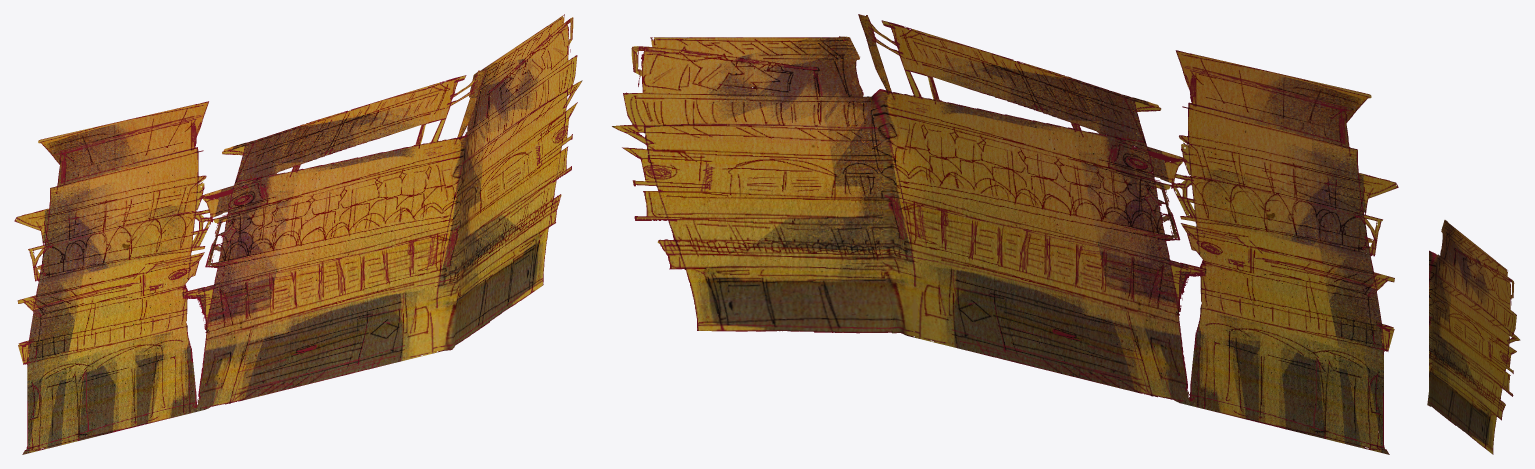
File: 01_front_bld_01.fbx
The picture shows the model from 3 angles, left to right: view 1: azimuth 30°, elevation 25°; view 2: azimuth 150°, elevation 25°; view 3: azimuth 270°, elevation 25°; orthographic projection. The views are drawn at different scales.
Visible parts, largest first — view 1: 房子_01; view 2: 房子_01; view 3: 房子_01.
Part boxes in pixels (x1,y1,x2,y2): 房子_01: (14,14,582,454); 房子_01: (612,14,1398,454); 房子_01: (1427,220,1520,454).
Size of the model in its own units: 443 by 209 by 74.48.
1 material, 1 textured.
